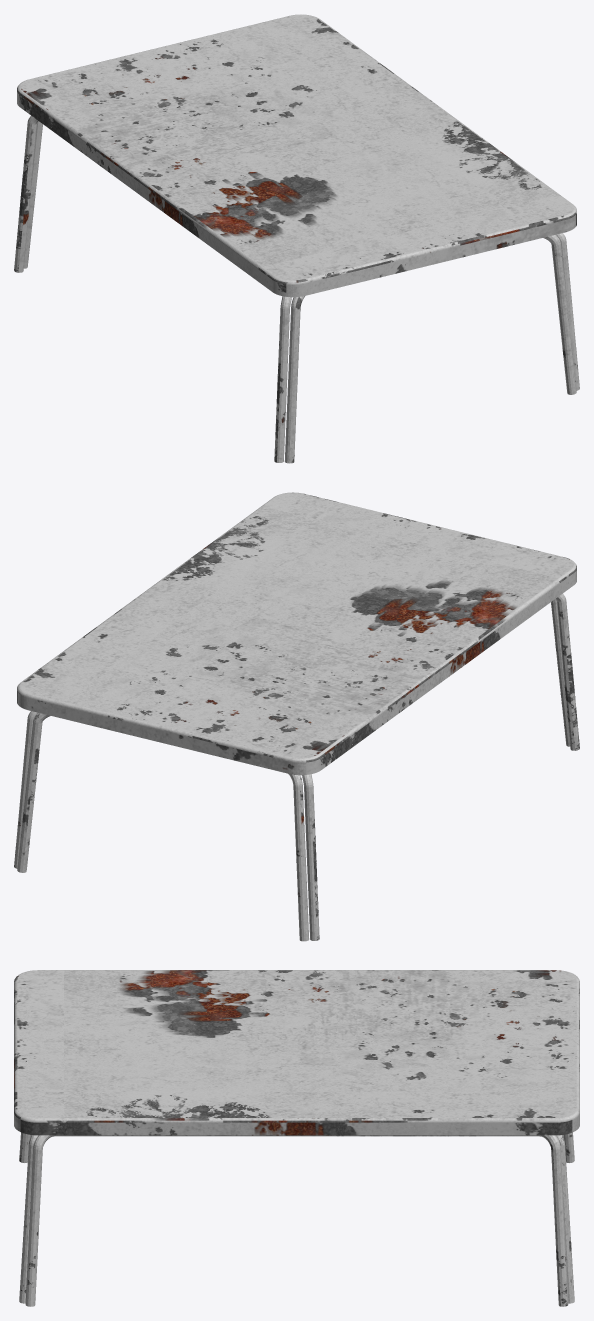
Rendered from tdc-dtr-table-1.glb.
3 views of the same model, one above another, from view 1: azimuth 30°, elevation 25°; view 2: azimuth 150°, elevation 25°; view 3: azimuth 270°, elevation 25° (orthographic). The views are drawn at different scales.
Visible parts, largest first — view 1: tdc-dtr-table-1; view 2: tdc-dtr-table-1; view 3: tdc-dtr-table-1.
Boxes of the visible parts, box(x1,y1,x2,y2) form: tdc-dtr-table-1: box(14, 14, 579, 463); tdc-dtr-table-1: box(14, 492, 579, 941); tdc-dtr-table-1: box(14, 970, 579, 1306).
Bounding box in the file's own units: 0.5151 × 0.2957 × 0.81.
Materials: 1 (1 with a texture image).
